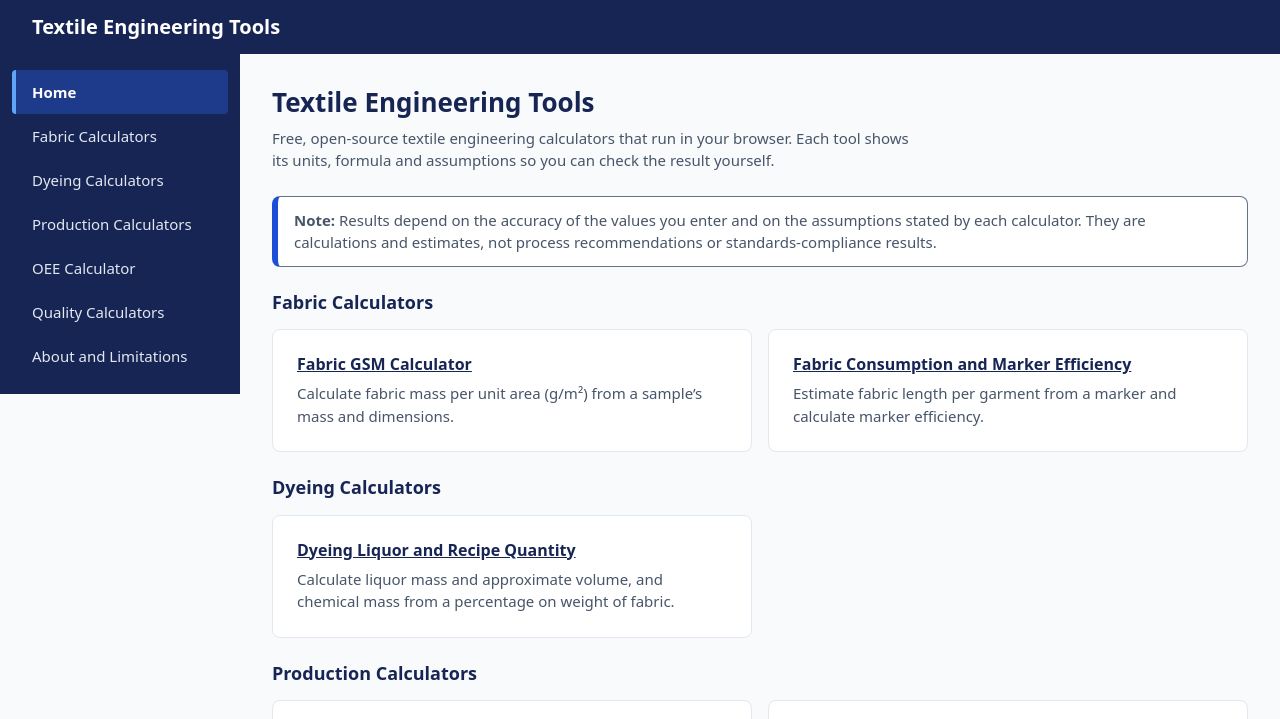
Test: Navigation › opens a category and then a calculator from the links
The image size is (1280, 719).
Click the link "Fabric Calculators".
click(94, 136)  # box x1=32 y1=126 x2=157 y2=146
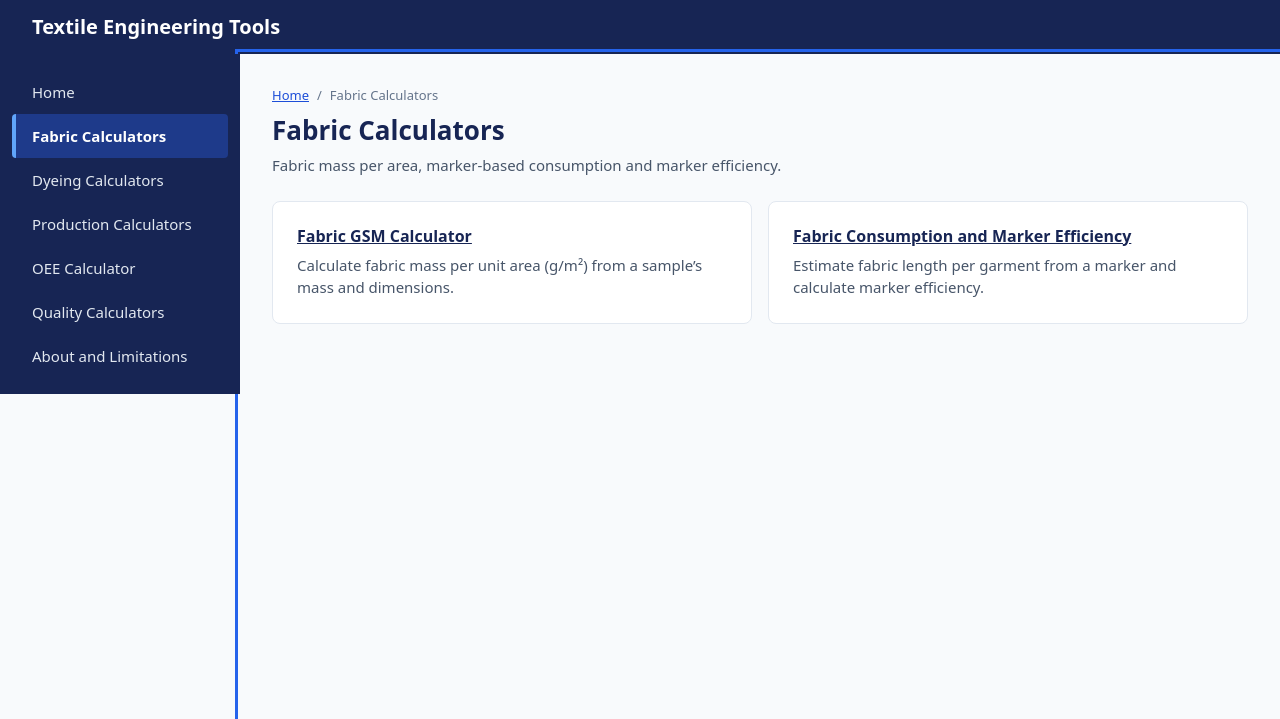
Check: the heading "Fabric Calculators" is shown, box x1=272 y1=112 x2=505 y2=148
Click the link "Fabric GSM Calculator".
click(384, 236)  # box x1=297 y1=224 x2=472 y2=246
(page scrolled)
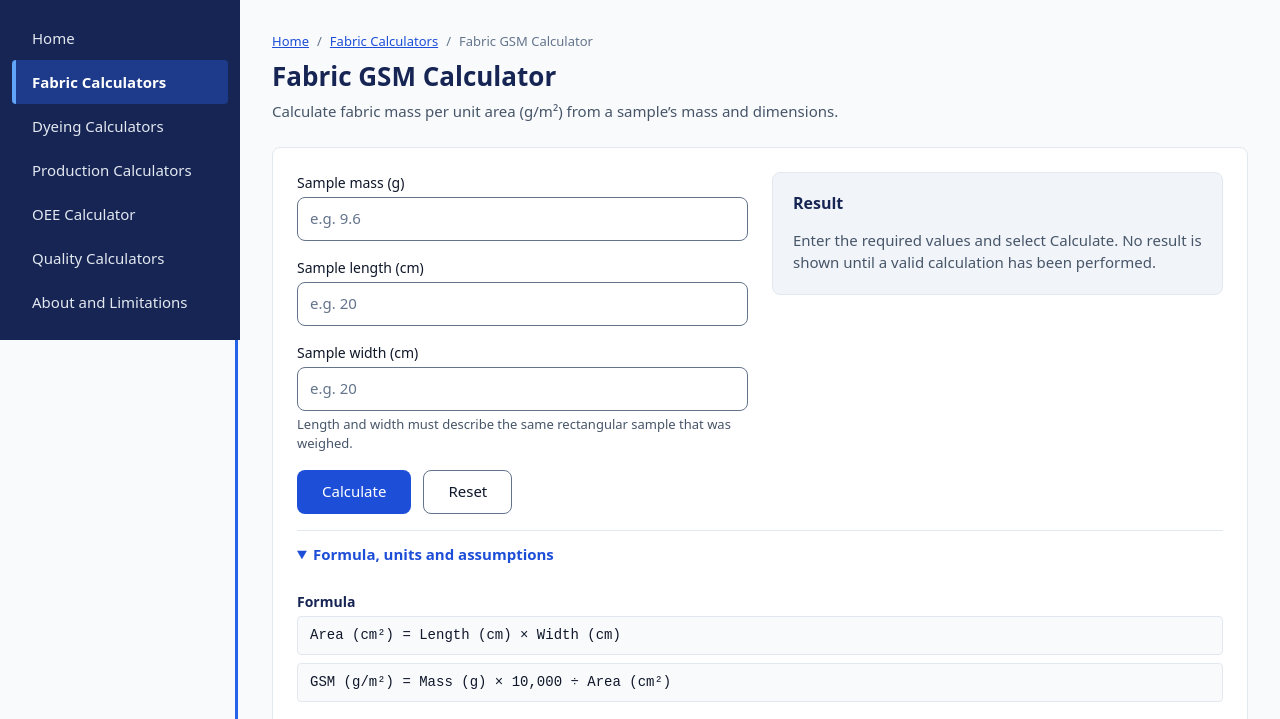
Check: the heading "Fabric GSM Calculator" is shown, box x1=272 y1=58 x2=556 y2=94
Check: the field labelled "Sample mass (g)" is shown, box x1=297 y1=196 x2=748 y2=240
